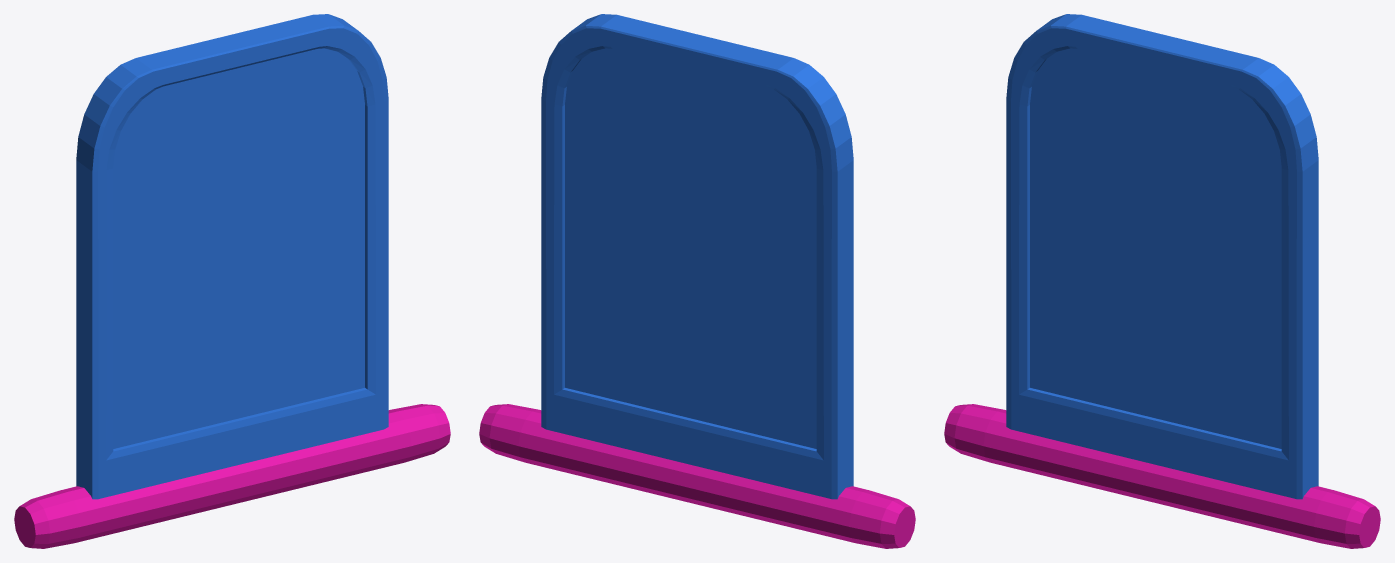
Rendered from door.fbx.
The picture shows the model from 3 angles, left to right: view 1: azimuth 30°, elevation 25°; view 2: azimuth 150°, elevation 25°; view 3: azimuth 330°, elevation 25°; orthographic projection.
Parts seen in each view (by area): view 1: SM_Flipper_1; view 2: SM_Flipper_1; view 3: SM_Flipper_1.
Part boxes in pixels (x1,y1,x2,y2): SM_Flipper_1: [14, 14, 450, 548]; SM_Flipper_1: [479, 14, 915, 548]; SM_Flipper_1: [944, 14, 1380, 548].
Bounding box in the file's own units: 140 × 16 × 148.
